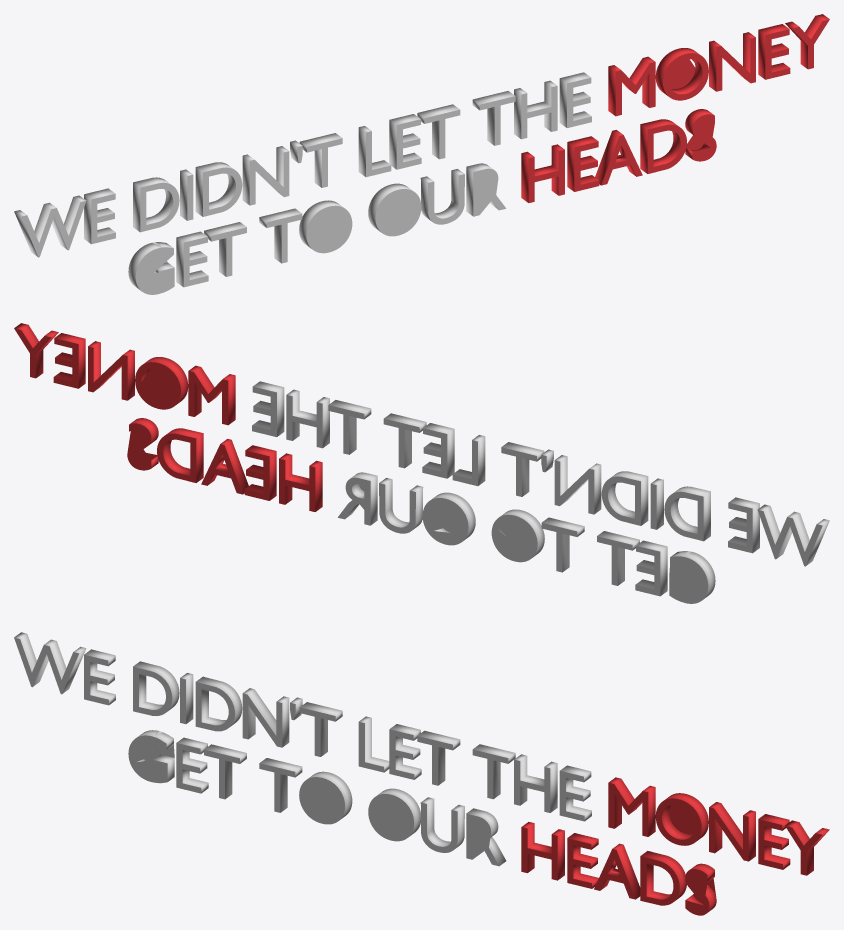
Rendered from WeDidntLetTheMonry.fbx.
The picture shows the model from 3 angles, top to bottom: view 1: azimuth 30°, elevation 25°; view 2: azimuth 150°, elevation 25°; view 3: azimuth 330°, elevation 25°; orthographic projection.
Parts seen in each view (by area): view 1: we didnt let the, money heads; view 2: we didnt let the, money heads; view 3: we didnt let the, money heads.
Boxes of the visible parts, bbox=[...] form: we didnt let the: bbox=[14, 72, 591, 294]; money heads: bbox=[521, 14, 829, 202]; we didnt let the: bbox=[252, 381, 829, 603]; money heads: bbox=[14, 323, 322, 511]; we didnt let the: bbox=[14, 632, 591, 866]; money heads: bbox=[521, 777, 829, 915].
Bounding box in the file's own units: 1289 × 172 × 20.
